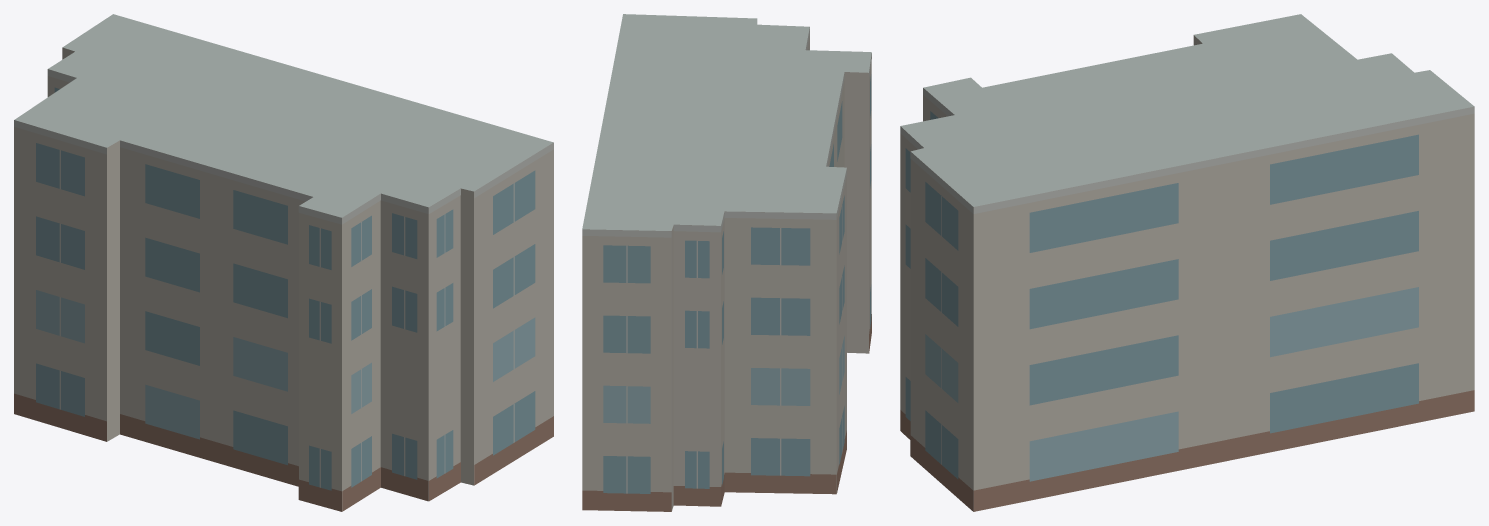
The model's file is survey-upis-32975099.glb.
The picture shows the model from 3 angles, left to right: view 1: azimuth 30°, elevation 25°; view 2: azimuth 150°, elevation 25°; view 3: azimuth 270°, elevation 25°; orthographic projection. The views are drawn at different scales.
Parts seen in each view (by area): view 1: survey-upis-32975099.tmp; view 2: survey-upis-32975099.tmp; view 3: survey-upis-32975099.tmp.
Boxes of the visible parts, bbox=[...] form: survey-upis-32975099.tmp: bbox=[14, 14, 553, 511]; survey-upis-32975099.tmp: bbox=[582, 14, 871, 511]; survey-upis-32975099.tmp: bbox=[900, 14, 1474, 511].
Bounding box in the file's own units: 14.27 × 10.5 × 17.94.
